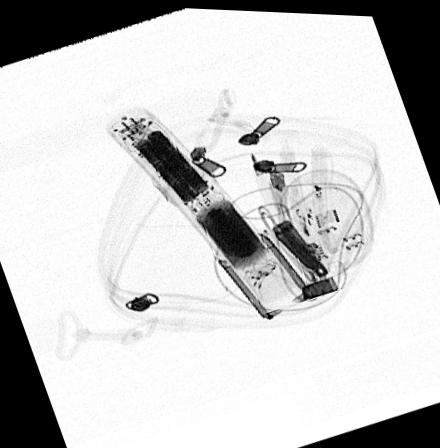Baton: (104, 102, 312, 316)
